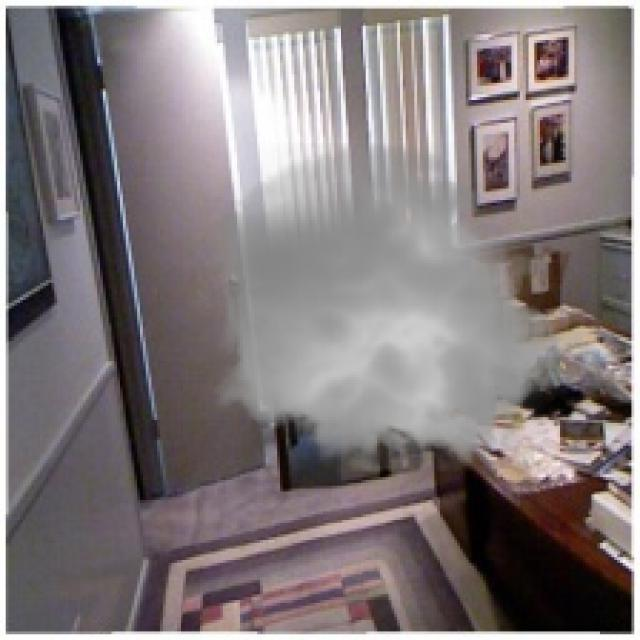smoke: (197, 131, 577, 486)
